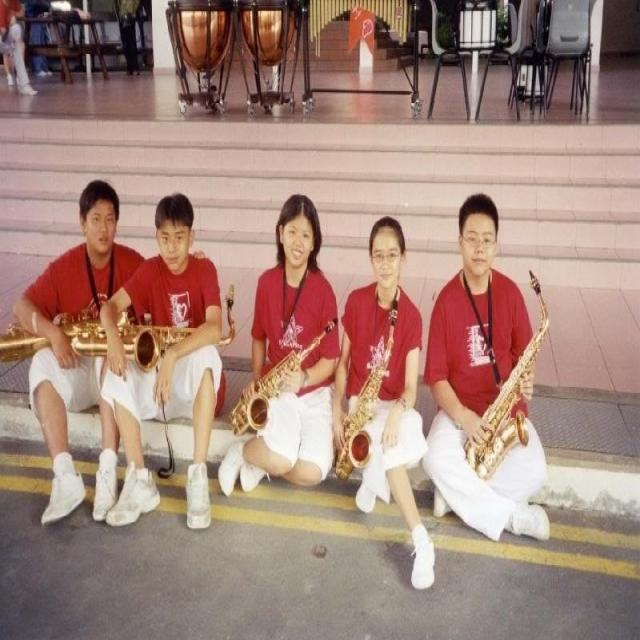saxophone: (460, 266, 555, 487), (71, 281, 242, 363), (332, 291, 402, 485), (232, 318, 342, 441), (0, 309, 139, 364)
